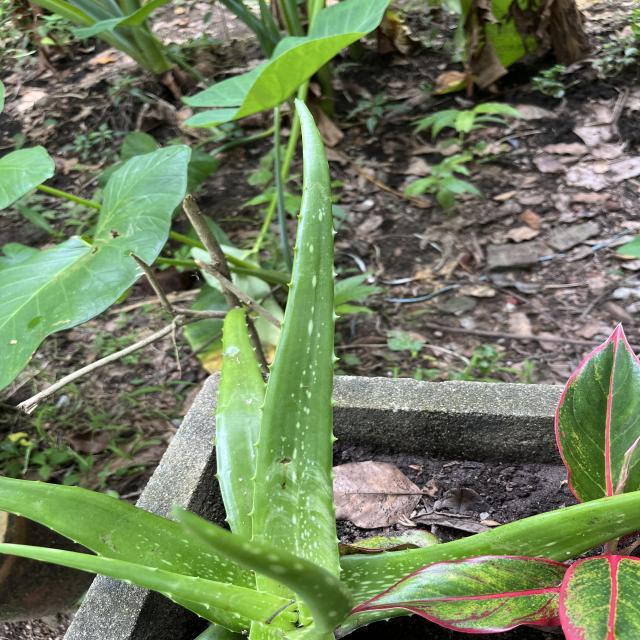Aloe vera: (240, 94, 350, 577)
